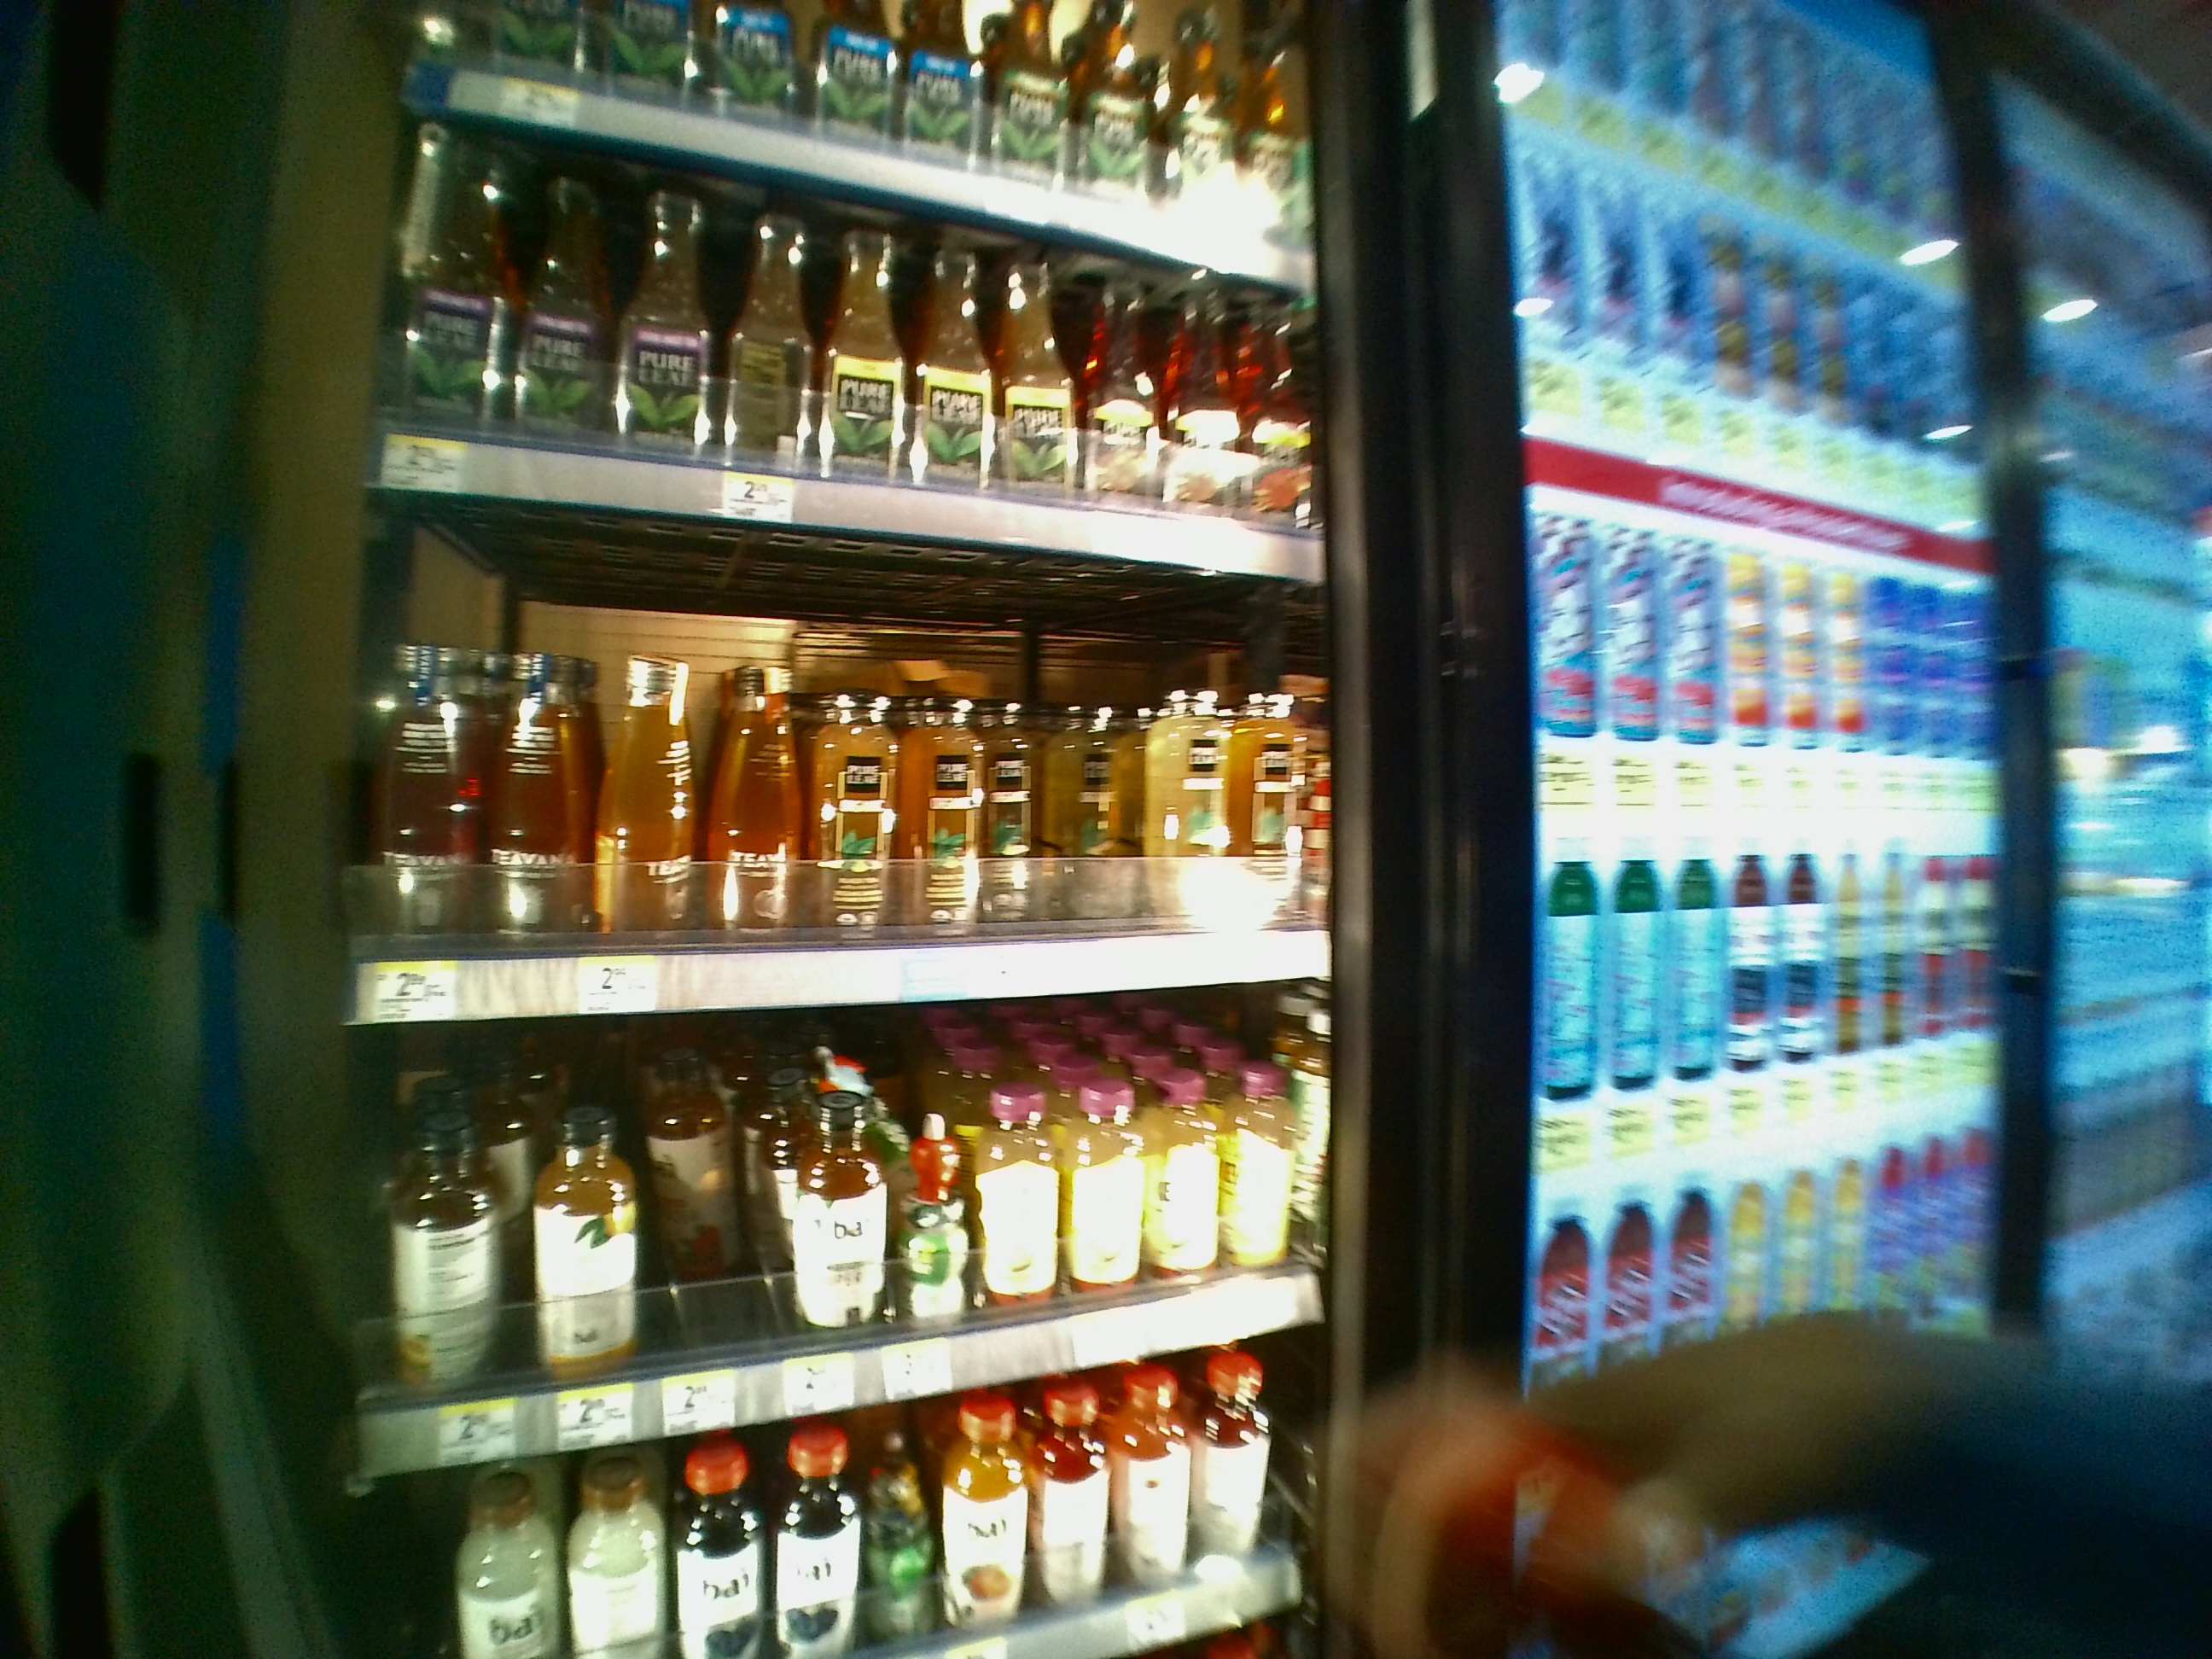shelf: (329, 490, 1332, 1028)
